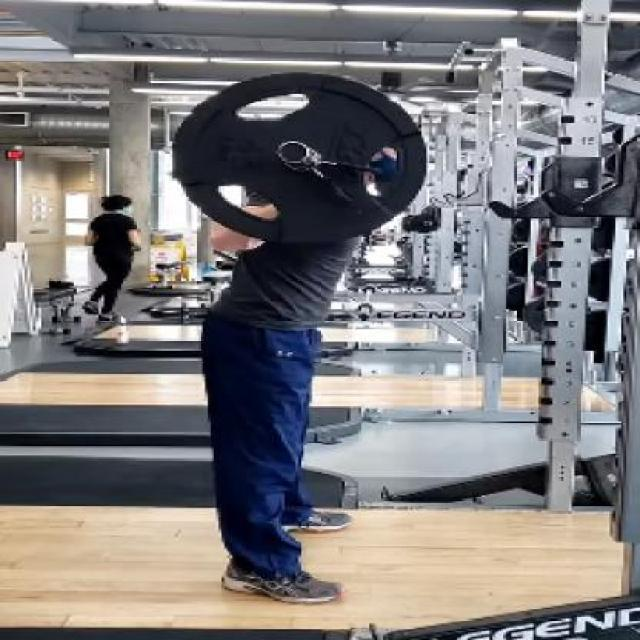barbell: (153, 63, 460, 249)
